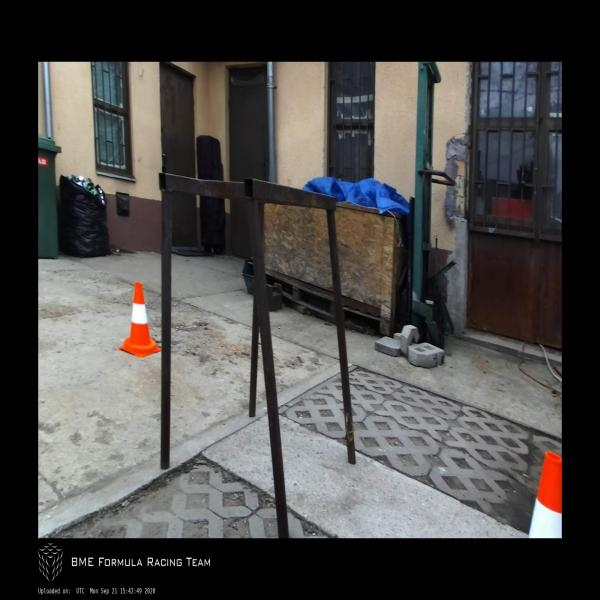orange_cone: (119, 282, 161, 357), (529, 452, 561, 538)
